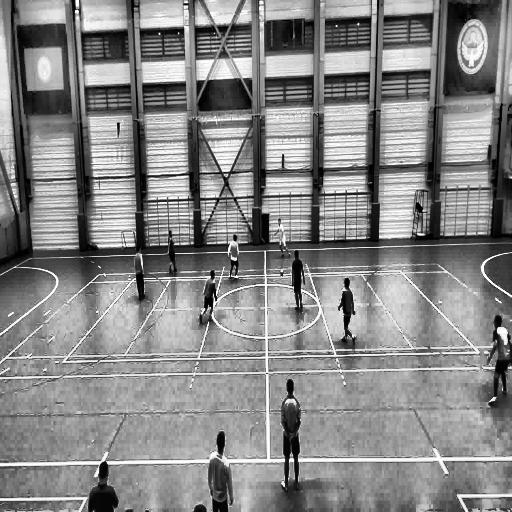ball: (280, 267, 284, 275)
player: (276, 380, 301, 493), (209, 430, 234, 512), (487, 316, 510, 403), (338, 277, 355, 341), (199, 269, 218, 323), (290, 249, 304, 309), (134, 245, 146, 302), (276, 218, 290, 258), (228, 234, 240, 278), (166, 229, 177, 274)
